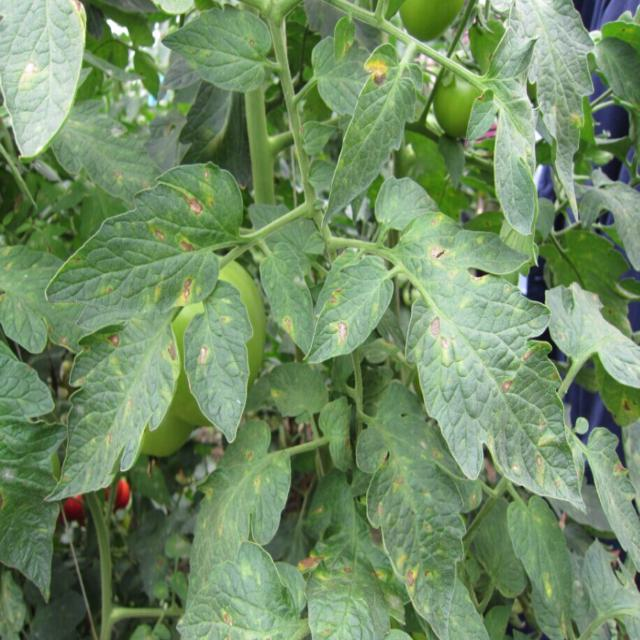Leaf_Mold: (395, 552, 421, 599), (358, 55, 391, 90), (293, 548, 328, 577), (428, 311, 452, 351), (171, 273, 197, 307), (182, 189, 209, 218), (156, 336, 181, 366), (419, 242, 452, 264), (98, 326, 123, 350), (275, 313, 297, 340), (537, 570, 556, 599), (332, 319, 349, 350), (176, 233, 196, 256), (194, 344, 213, 368), (619, 394, 635, 417), (609, 457, 627, 477), (500, 373, 515, 396)
